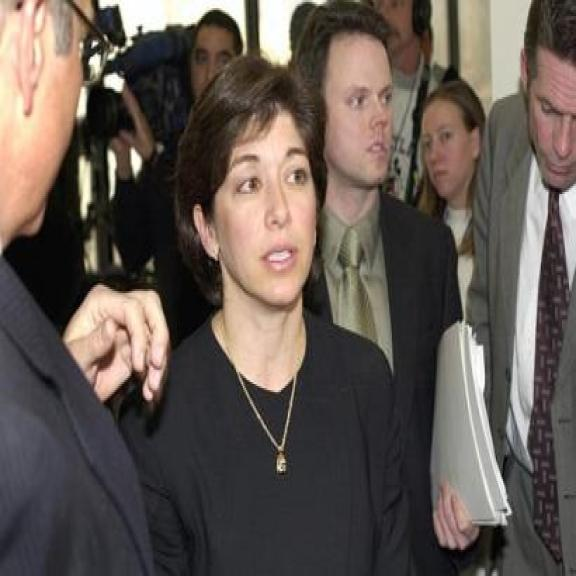face: (187, 107, 322, 305), (324, 30, 395, 189), (515, 33, 576, 193), (416, 98, 482, 204), (183, 19, 235, 100)
